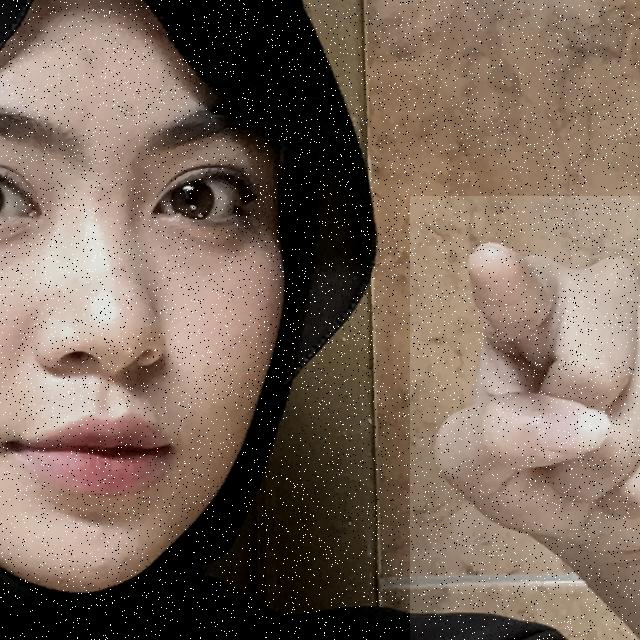kamu: (410, 196, 640, 640)
